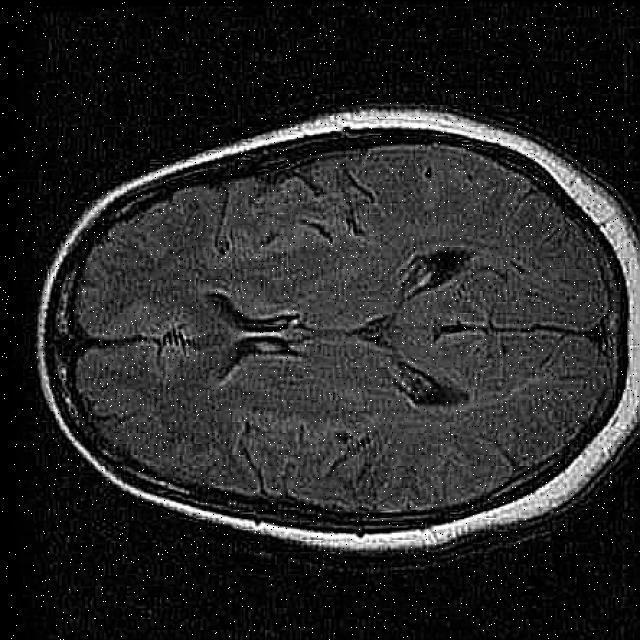No_Tumor: (37, 108, 639, 551)
